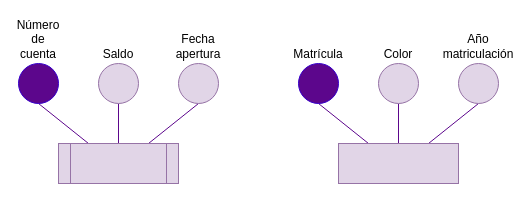
The diagram is 531 pixels wide and 201 high, and some of its shapes have lost their labels. Here are the shapes that lost their labels. From the top down, the centre of each, then its label:
the point at 118,163: Cuenta bancaria
the point at 398,163: Coche
